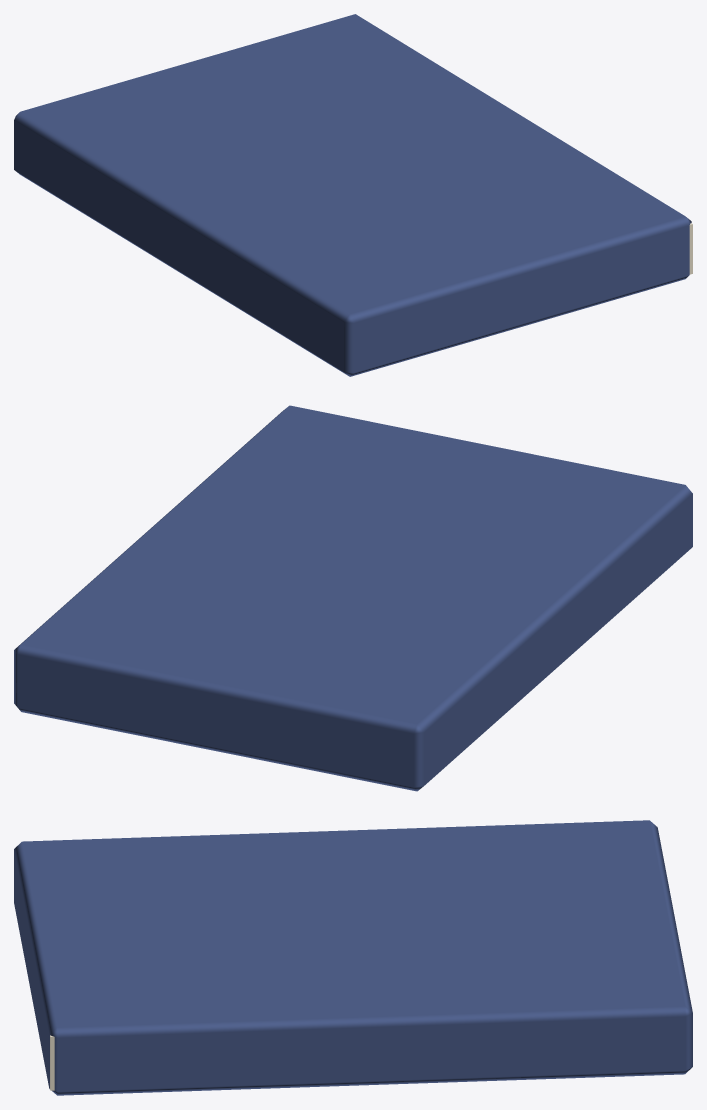
Rendered from book_desk_1.fbx.
3 views of the same model, one above another, from view 1: azimuth 30°, elevation 25°; view 2: azimuth 150°, elevation 25°; view 3: azimuth 270°, elevation 25° (orthographic). The views are drawn at different scales.
Parts seen in each view (by area): view 1: book_desk_1; view 2: book_desk_1; view 3: book_desk_1.
Boxes of the visible parts, box(x1,y1,x2,y2) form: book_desk_1: box(14, 14, 692, 376); book_desk_1: box(14, 405, 692, 791); book_desk_1: box(14, 820, 692, 1095).
Bounding box in the file's own units: 0.1882 × 0.028 × 0.2523.
